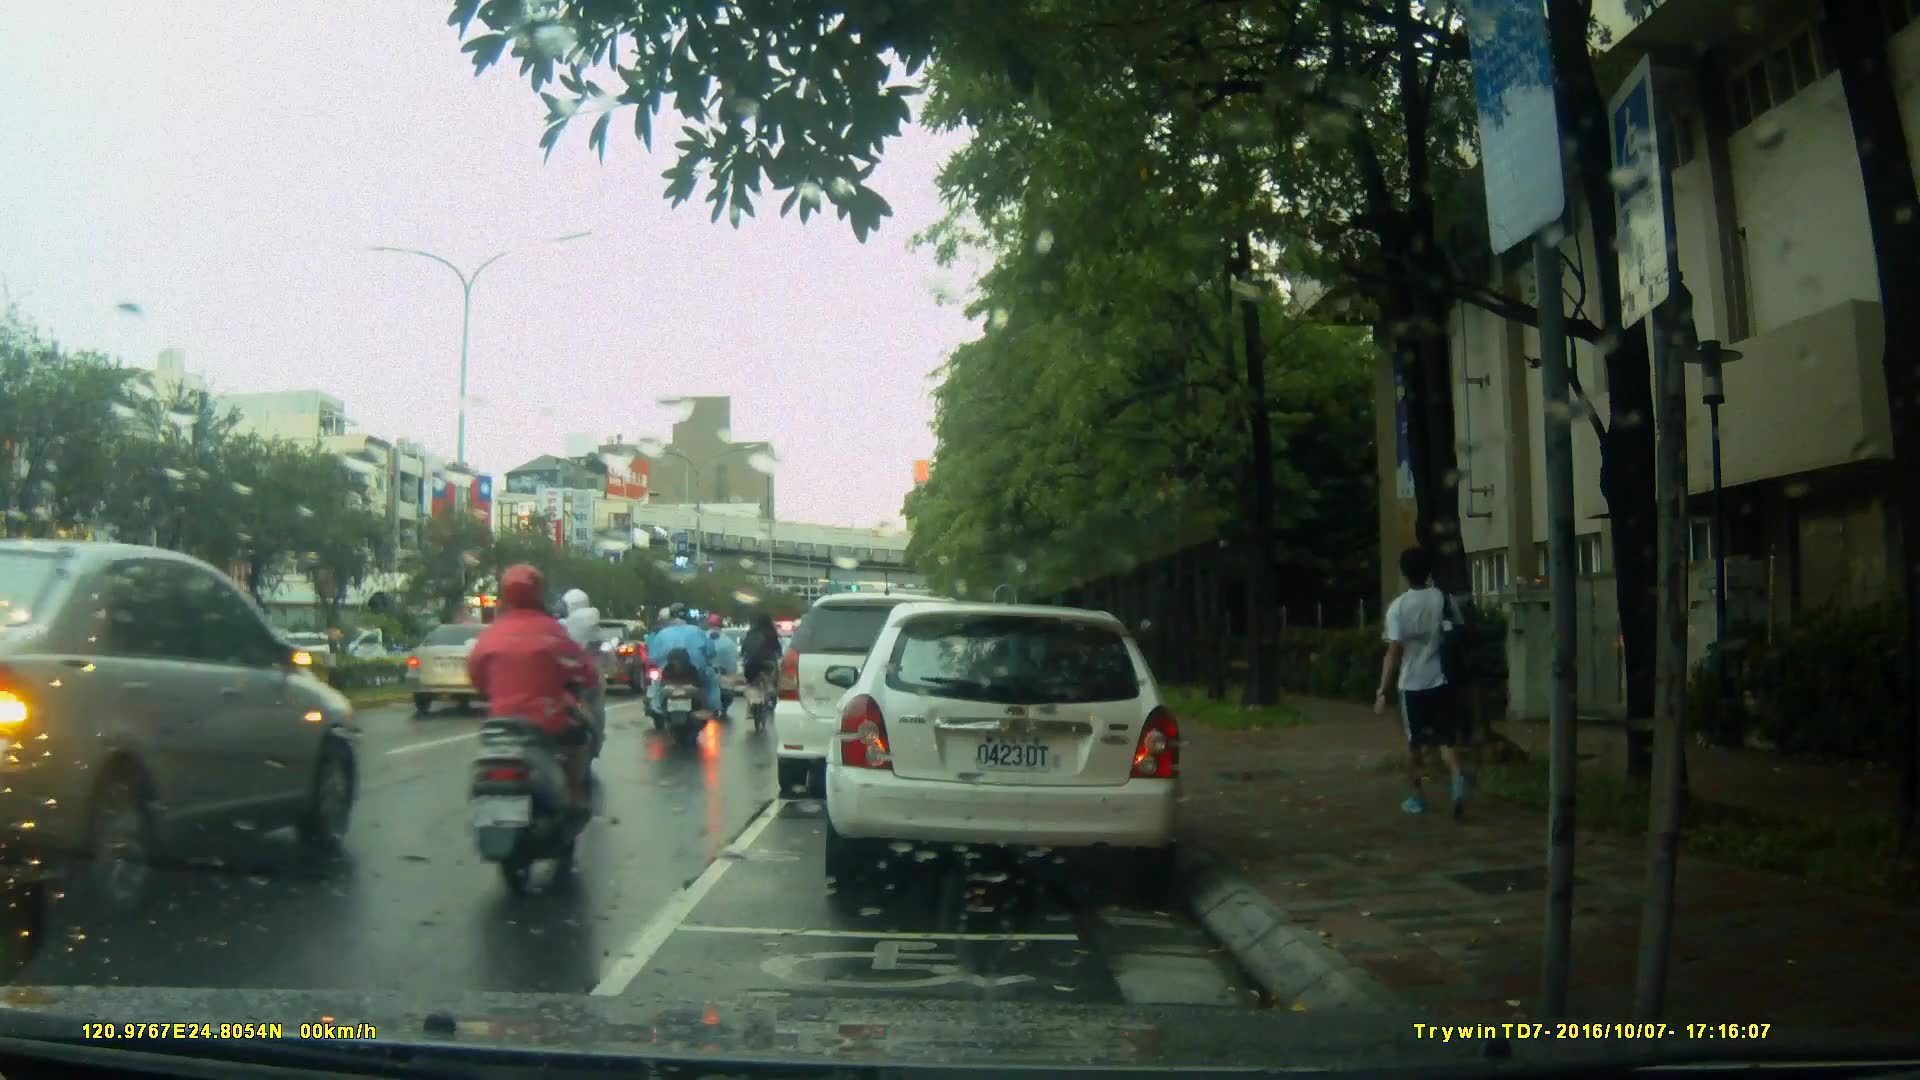pedestrian: (1385, 532, 1489, 845)
rider: (466, 564, 601, 898), (530, 595, 612, 787), (648, 606, 715, 751), (745, 606, 789, 745), (694, 609, 744, 715)
vehicle: (2, 535, 360, 940), (822, 604, 1188, 882), (774, 595, 995, 802), (405, 621, 551, 718)
